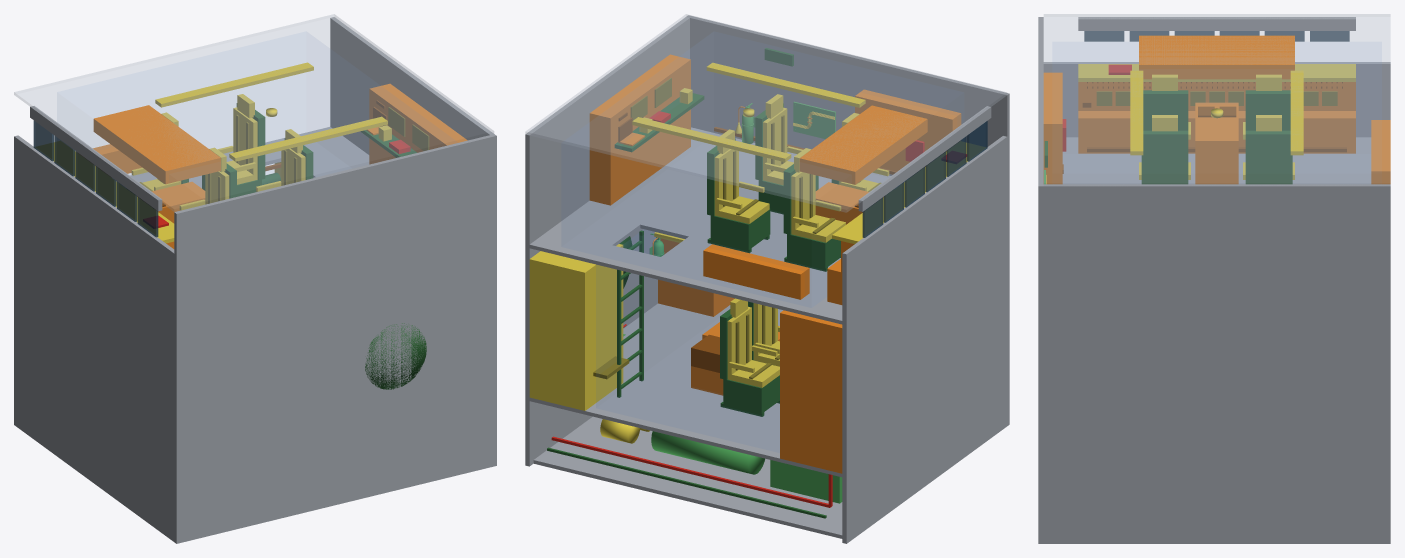
Rendered from mekik_kabini.glb.
3 views of the same model, side by side, from view 1: azimuth 30°, elevation 25°; view 2: azimuth 150°, elevation 25°; view 3: azimuth 270°, elevation 25° (orthographic). The views are drawn at different scales.
Parts seen in each view (by area): view 1: Iskele_Duvari_Sol, Tavan_Seffaf, On_Perde, Arka_Perde, Tavan_Paneli_O, Arka_Ucus_Istasyonu, Gunes_Siperligi, Yan_Giris_Kapagi, Pencere_Cercevesi_Ust, Ucus_Guvertesi_Zemini_3, Aydinlatma_Ucus_L, Aydinlatma_Ucus_R (+10 smaller); view 2: Tavan_Seffaf, On_Perde, Iskele_Duvari_Sol, Arka_Perde, Orta_Guverte_Zemini, Tuvalet_WCS, Alt_Bolme_Tabani, Aviyonik_Bolmesi_2, Ucus_Guvertesi_Zemini_1, Arka_Ucus_Istasyonu, Tavan_Paneli_O, Ucus_Guvertesi_Zemini_2 (+42 smaller); view 3: Arka_Perde, Tavan_Seffaf, Tavan_Paneli_O, On_Konsol, On_Perde, Pencere_Cercevesi_Ust, Gosterge_Paneli_F, Orta_Konsol, Iskele_Duvari_Sol, Ucus_Guvertesi_Zemini_1, Ucus_Guvertesi_Zemini_2, Koltuk_GorevUzmani_2_Sirt_Iskeleti (+15 smaller).
Boxes of the visible parts, <box> form: Iskele_Duvari_Sol: <box>174,134,496,543</box>; Tavan_Seffaf: <box>14,14,493,211</box>; On_Perde: <box>14,135,174,541</box>; Arka_Perde: <box>330,17,493,154</box>; Tavan_Paneli_O: <box>93,105,220,183</box>; Arka_Ucus_Istasyonu: <box>369,84,467,164</box>; Gunes_Siperligi: <box>36,141,174,243</box>; Yan_Giris_Kapagi: <box>365,323,426,389</box>; Pencere_Cercevesi_Ust: <box>30,106,162,211</box>; Ucus_Guvertesi_Zemini_3: <box>268,127,369,177</box>; Aydinlatma_Ucus_L: <box>229,116,387,161</box>; Aydinlatma_Ucus_R: <box>155,62,313,107</box>; Tavan_Seffaf: <box>525,14,1006,212</box>; On_Perde: <box>842,136,1007,543</box>; Iskele_Duvari_Sol: <box>686,15,1009,425</box>; Arka_Perde: <box>525,17,689,466</box>; Orta_Guverte_Zemini: <box>529,303,842,477</box>; Tuvalet_WCS: <box>529,244,623,410</box>; Alt_Bolme_Tabani: <box>533,416,842,538</box>; Aviyonik_Bolmesi_2: <box>780,310,842,473</box>; Ucus_Guvertesi_Zemini_1: <box>578,127,904,267</box>; Arka_Ucus_Istasyonu: <box>589,54,690,205</box>; Tavan_Paneli_O: <box>799,105,927,184</box>; Ucus_Guvertesi_Zemini_2: <box>640,236,842,324</box>; Arka_Perde: <box>1043,184,1390,543</box>; Tavan_Seffaf: <box>1044,14,1390,185</box>; Tavan_Paneli_O: <box>1139,35,1294,79</box>; On_Konsol: <box>1078,111,1355,153</box>; On_Perde: <box>1043,62,1390,137</box>; Pencere_Cercevesi_Ust: <box>1078,17,1355,30</box>; Gosterge_Paneli_F: <box>1078,82,1355,110</box>; Orta_Konsol: <box>1195,102,1238,184</box>; Iskele_Duvari_Sol: <box>1038,17,1043,543</box>; Ucus_Guvertesi_Zemini_1: <box>1062,137,1245,184</box>; Ucus_Guvertesi_Zemini_2: <box>1292,137,1371,184</box>; Koltuk_GorevUzmani_2_Sirt_Iskeleti: <box>1245,130,1292,184</box>.
Bounding box in the file's own units: 4.62 × 4.59 × 4.06.
